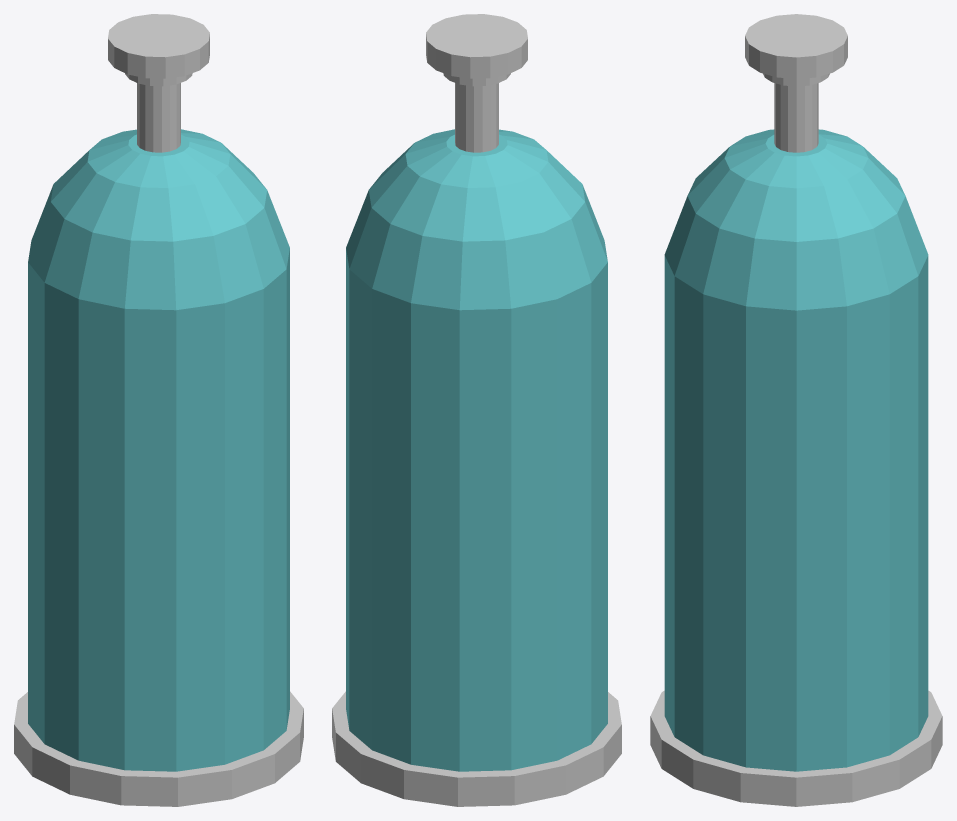
File: Tank.fbx
3 views of the same model, side by side, from view 1: azimuth 30°, elevation 25°; view 2: azimuth 150°, elevation 25°; view 3: azimuth 270°, elevation 25° (orthographic).
Visible parts, largest first — view 1: Cylinder; view 2: Cylinder; view 3: Cylinder.
Part boxes in pixels (x1,y1,x2,y2): Cylinder: (14, 14, 303, 806); Cylinder: (332, 14, 621, 806); Cylinder: (650, 14, 942, 806).
Size of the model in its own units: 221 by 593 by 221.
